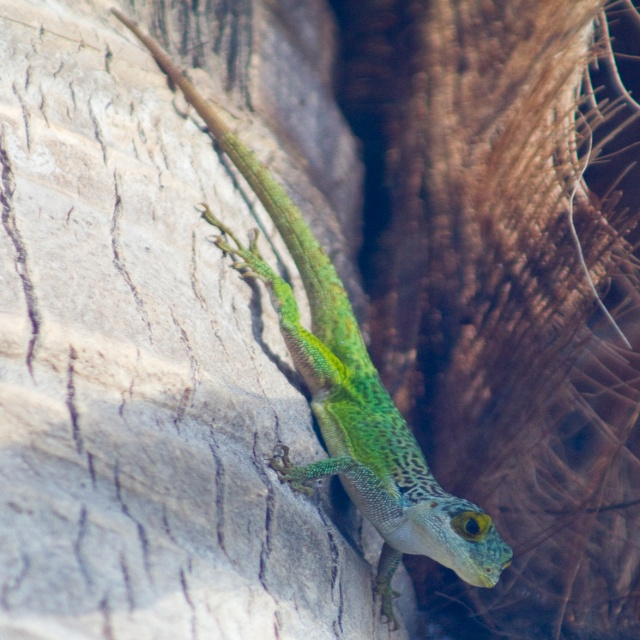Lizard: (109, 9, 516, 627)
